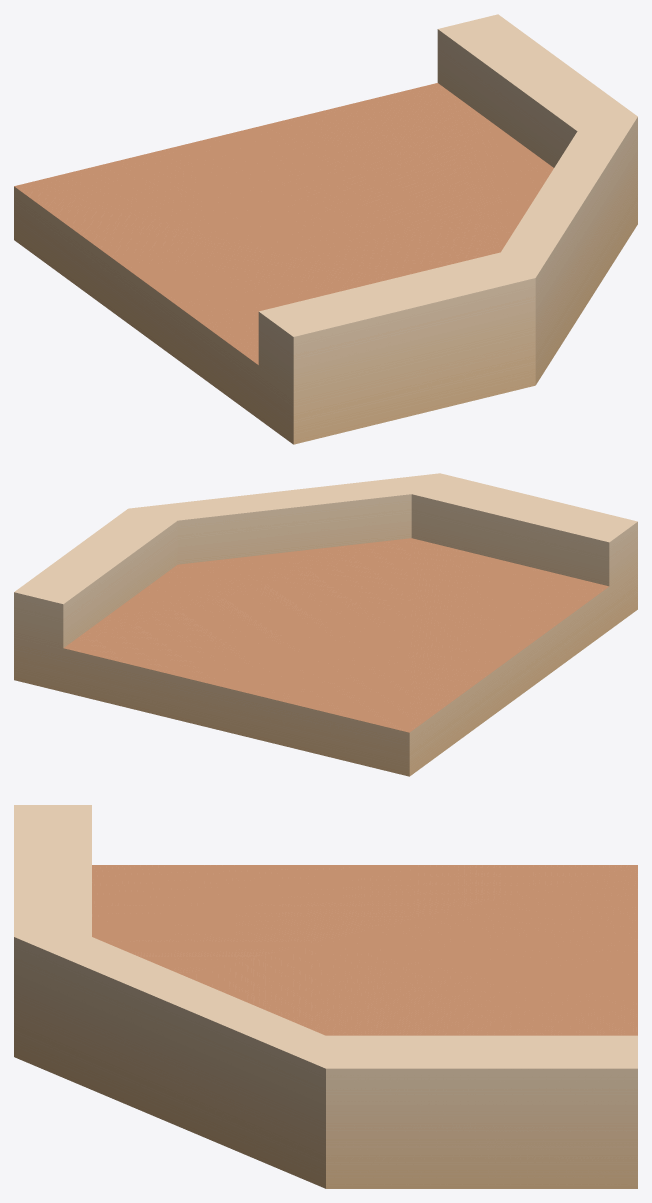
File: roof-flat-border-corner-slanted.glb
3 views of the same model, one above another, from view 1: azimuth 30°, elevation 25°; view 2: azimuth 150°, elevation 25°; view 3: azimuth 270°, elevation 25° (orthographic). The views are drawn at different scales.
Parts seen in each view (by area): view 1: roof-flat-border-corner-slanted; view 2: roof-flat-border-corner-slanted; view 3: roof-flat-border-corner-slanted.
Part boxes in pixels (x1,y1,x2,y2): roof-flat-border-corner-slanted: (14, 14, 637, 444); roof-flat-border-corner-slanted: (14, 473, 637, 776); roof-flat-border-corner-slanted: (14, 805, 637, 1188).
Bounding box in the file's own units: 1 × 0.2125 × 1.
Materials: 1 (1 with a texture image).
